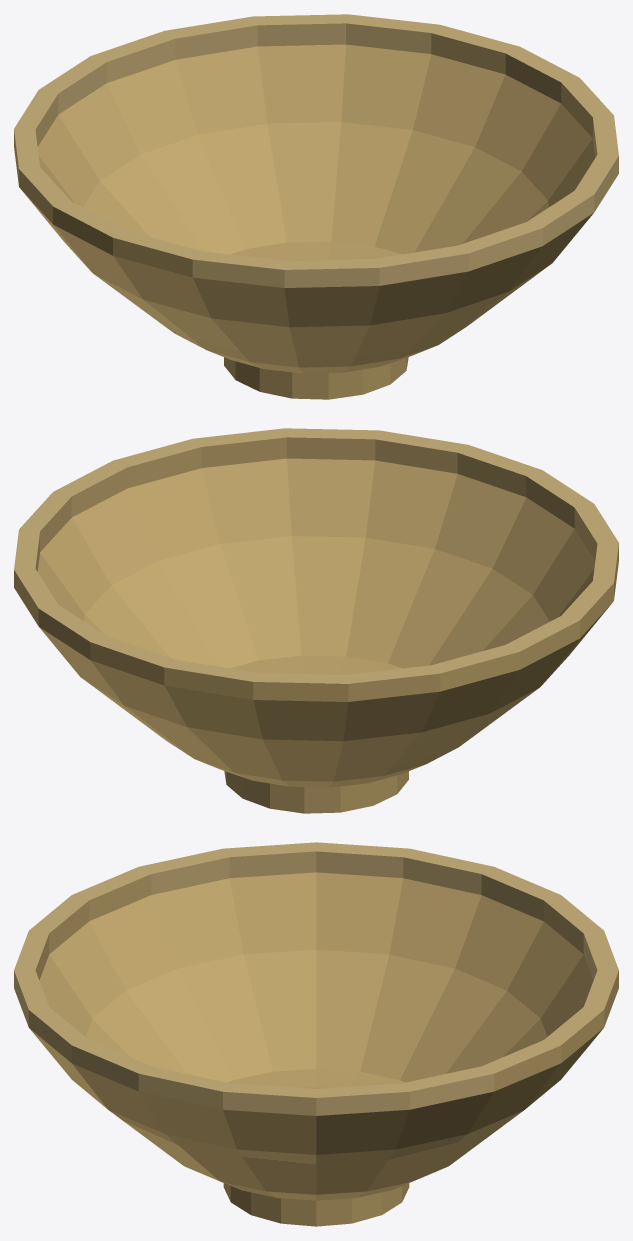
The model's file is vessel-karatsu.glb.
The picture shows the model from 3 angles, top to bottom: view 1: azimuth 30°, elevation 25°; view 2: azimuth 150°, elevation 25°; view 3: azimuth 270°, elevation 25°; orthographic projection.
Visible parts, largest first — view 1: vessel-karatsu/complete-inner-outer-shell-with-drainage, vessel-karatsu/complete-open-foot-ring; view 2: vessel-karatsu/complete-inner-outer-shell-with-drainage, vessel-karatsu/complete-open-foot-ring; view 3: vessel-karatsu/complete-inner-outer-shell-with-drainage, vessel-karatsu/complete-open-foot-ring.
Part boxes in pixels (x1,y1,x2,y2): vessel-karatsu/complete-inner-outer-shell-with-drainage: (14,14,618,373); vessel-karatsu/complete-open-foot-ring: (224,357,408,399); vessel-karatsu/complete-inner-outer-shell-with-drainage: (14,428,618,787); vessel-karatsu/complete-open-foot-ring: (224,771,408,813); vessel-karatsu/complete-inner-outer-shell-with-drainage: (14,842,618,1200); vessel-karatsu/complete-open-foot-ring: (223,1183,409,1226).
Size of the model in its own units: 0.366 by 0.145 by 0.366.
Materials: 1 (1 with a texture image).
